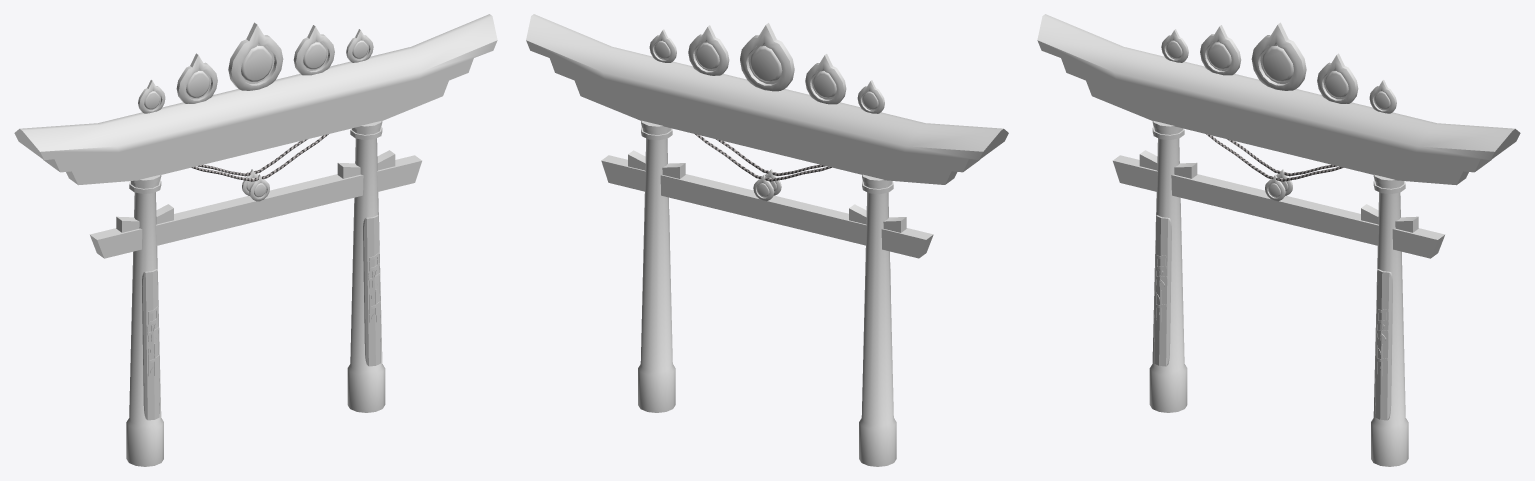
The model's file is Tori_Gate.fbx.
The picture shows the model from 3 angles, left to right: view 1: azimuth 30°, elevation 25°; view 2: azimuth 150°, elevation 25°; view 3: azimuth 330°, elevation 25°; orthographic projection.
Visible parts, largest first — view 1: Tori_Gate_Textured; view 2: Tori_Gate_Textured; view 3: Tori_Gate_Textured.
Part boxes in pixels (bbox=[...]): Tori_Gate_Textured: bbox=[14, 14, 497, 466]; Tori_Gate_Textured: bbox=[526, 14, 1008, 466]; Tori_Gate_Textured: bbox=[1037, 14, 1520, 466].
Bounding box in the file's own units: 723 × 600 × 68.42.
